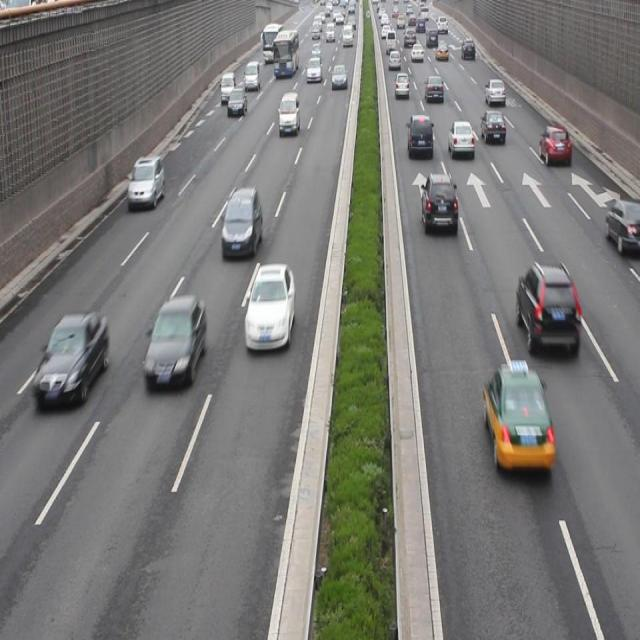car: (482, 363, 554, 474), (30, 310, 110, 403), (513, 259, 577, 357), (144, 297, 208, 384), (245, 262, 296, 352), (220, 187, 261, 259), (418, 172, 457, 235), (603, 198, 640, 256), (127, 156, 166, 208), (536, 122, 570, 164), (448, 120, 473, 158), (479, 110, 503, 144)
truck: (408, 111, 432, 163), (278, 91, 300, 138)
